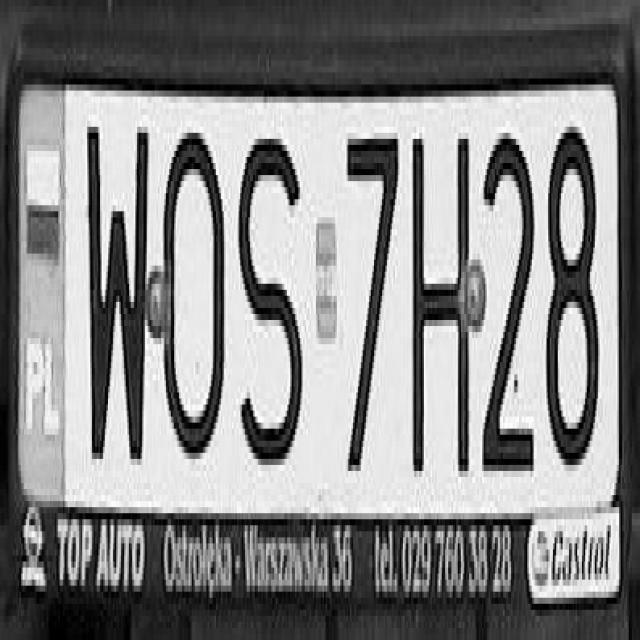License_Plate: (10, 82, 626, 605)
